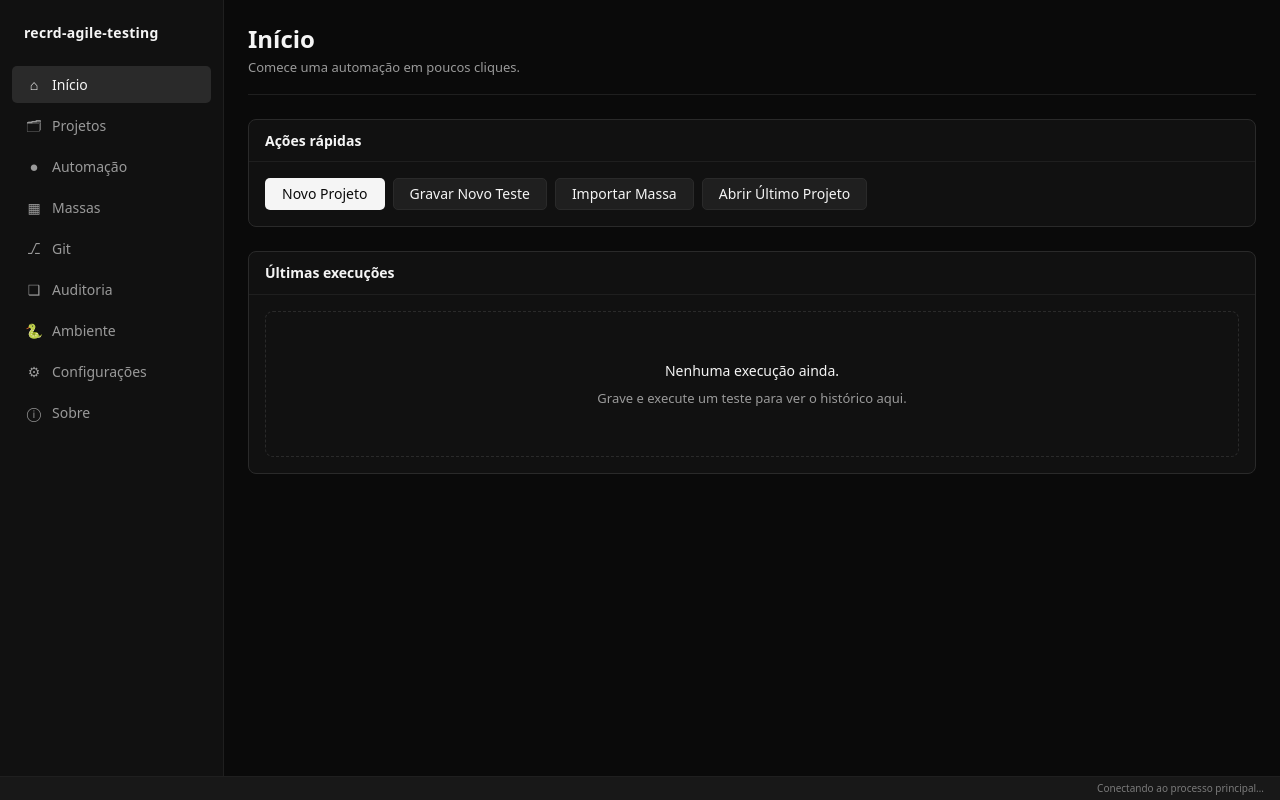
App › navigates from home to the new-project form and back
Click the button "Novo Projeto". click: (325, 194)
box: [265, 178, 384, 210]
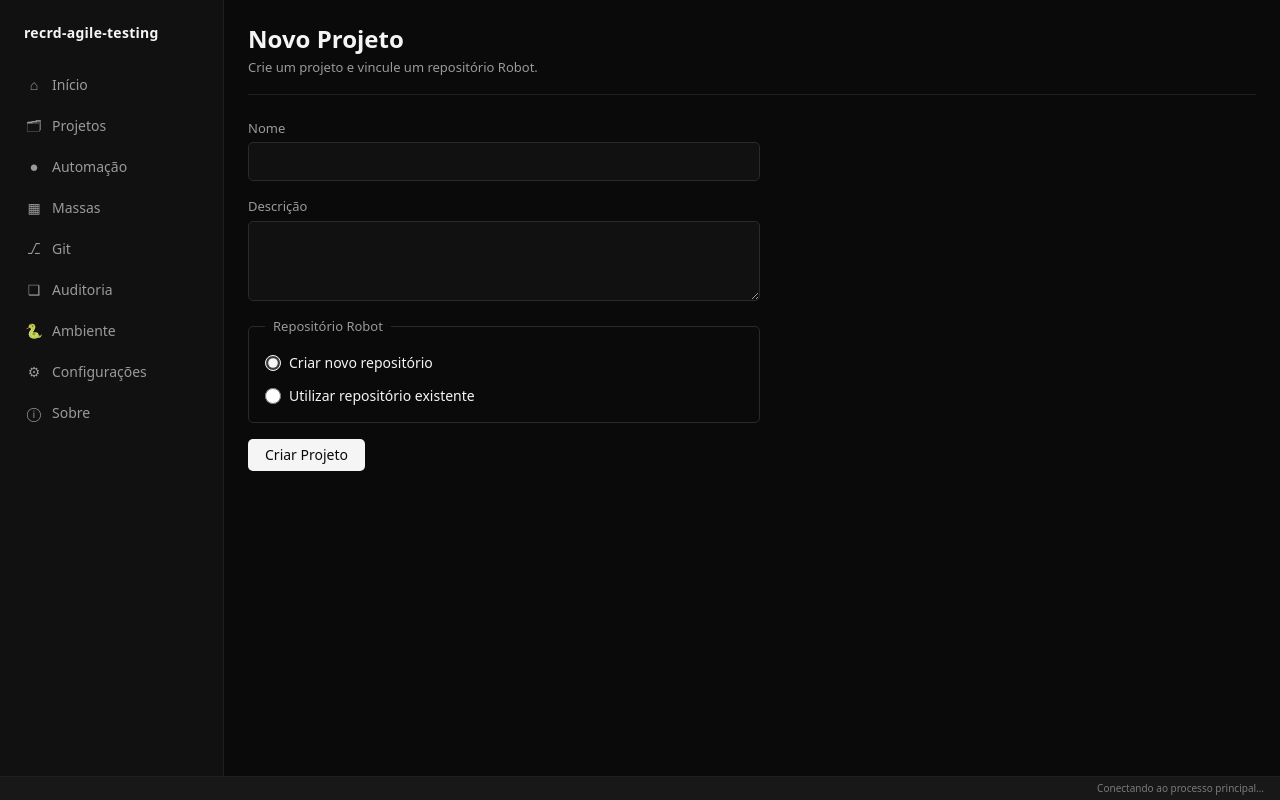
Result: the form named "novo projeto" is shown at [248, 118, 760, 471]
Click the button "⌂ Início". click: (112, 84)
box: [12, 66, 211, 102]
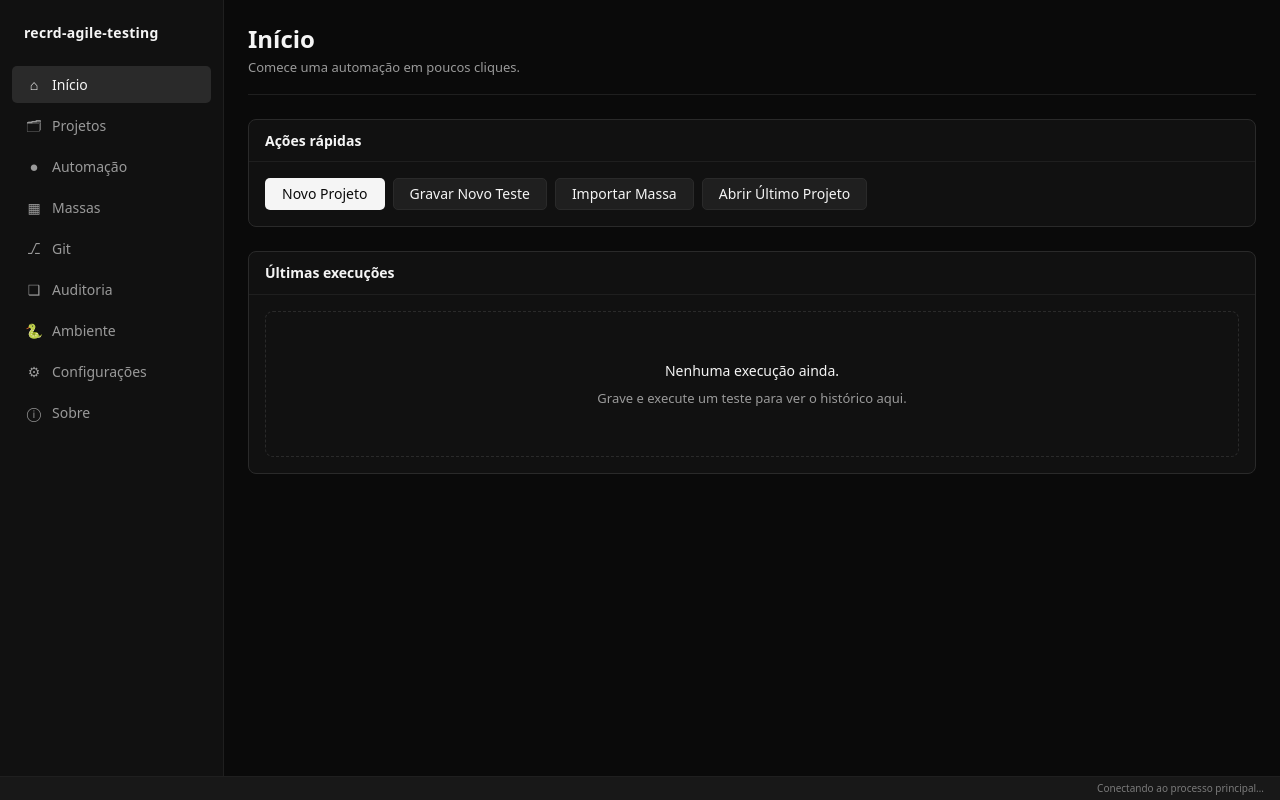
Result: the heading "Últimas execuções" is shown at [265, 264, 395, 282]
